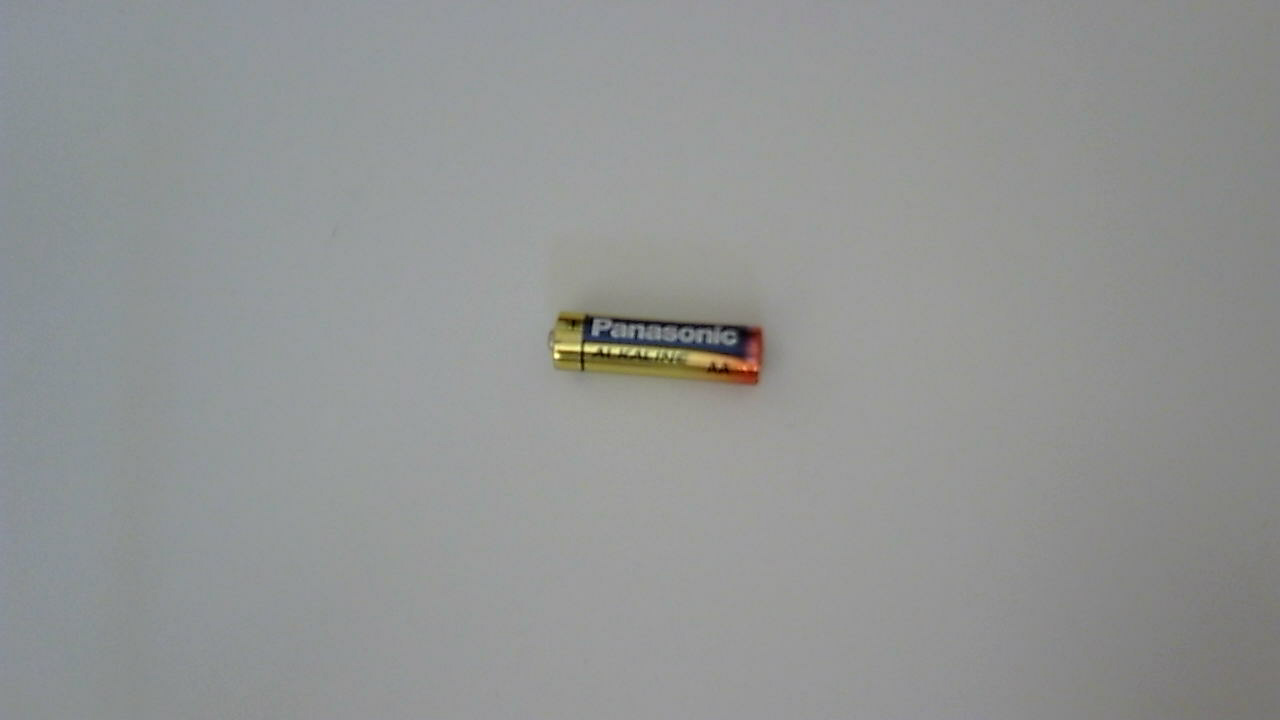Battery: (547, 312, 773, 397)
